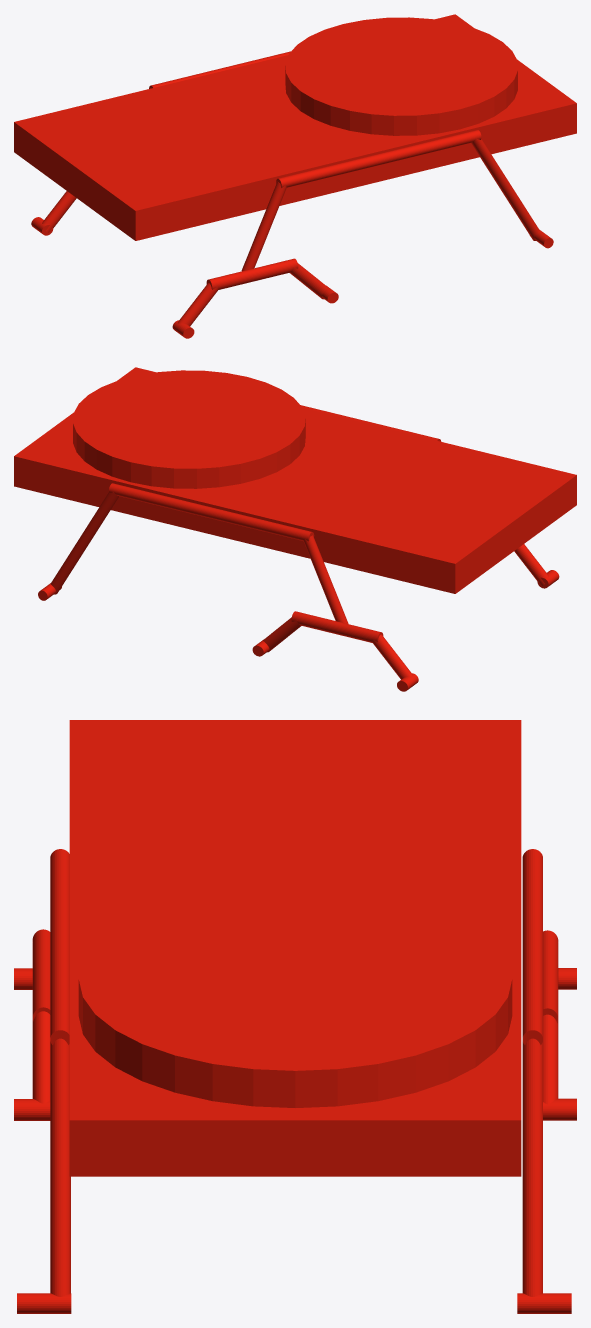
The picture shows the model from 3 angles, top to bottom: view 1: azimuth 30°, elevation 25°; view 2: azimuth 150°, elevation 25°; view 3: azimuth 270°, elevation 25°; orthographic projection. The views are drawn at different scales.
Visible parts, largest first — view 1: tmp_export_Cylinder.019; view 2: tmp_export_Cylinder.019; view 3: tmp_export_Cylinder.019.
Part boxes in pixels (x1,y1,x2,y2): tmp_export_Cylinder.019: (14, 14, 576, 338); tmp_export_Cylinder.019: (14, 367, 576, 691); tmp_export_Cylinder.019: (14, 720, 576, 1313).
Size of the model in its own units: 3.06 by 1.82 by 0.9706.
